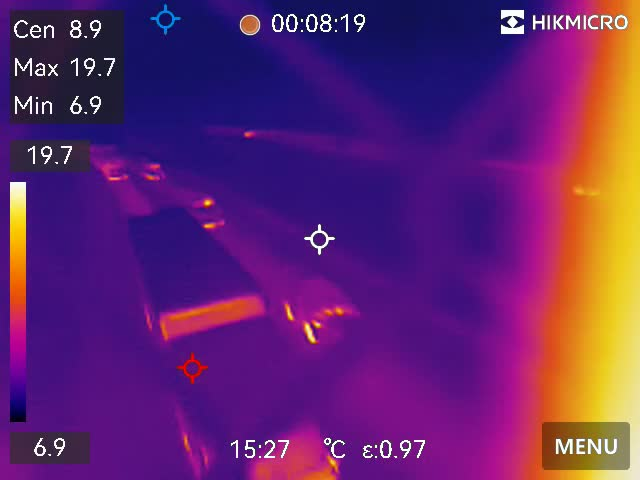heavyTruck: (124, 205, 345, 480)
vehicle: (283, 268, 361, 348), (193, 189, 225, 230)
